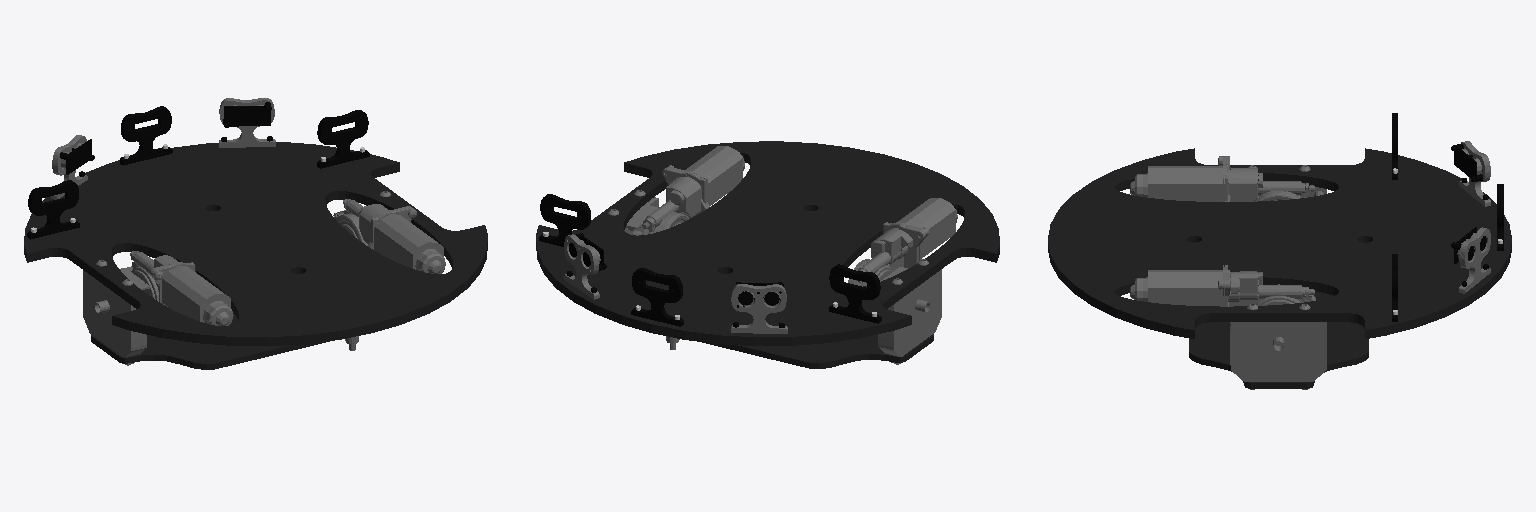
File: LowerDeck.obj
3 renders of one model, left to right at view 1: azimuth 30°, elevation 25°; view 2: azimuth 150°, elevation 25°; view 3: azimuth 270°, elevation 25°, orthographic.
Parts seen in each view (by area): view 1: LowerDeck; view 2: LowerDeck; view 3: LowerDeck.
Part boxes in pixels (left/top/right/bottom): LowerDeck: left=24, top=98, right=487, bottom=369; LowerDeck: left=536, top=141, right=999, bottom=368; LowerDeck: left=1048, top=113, right=1511, bottom=389.
Size of the model in its own units: 16.52 by 5.39 by 17.8.